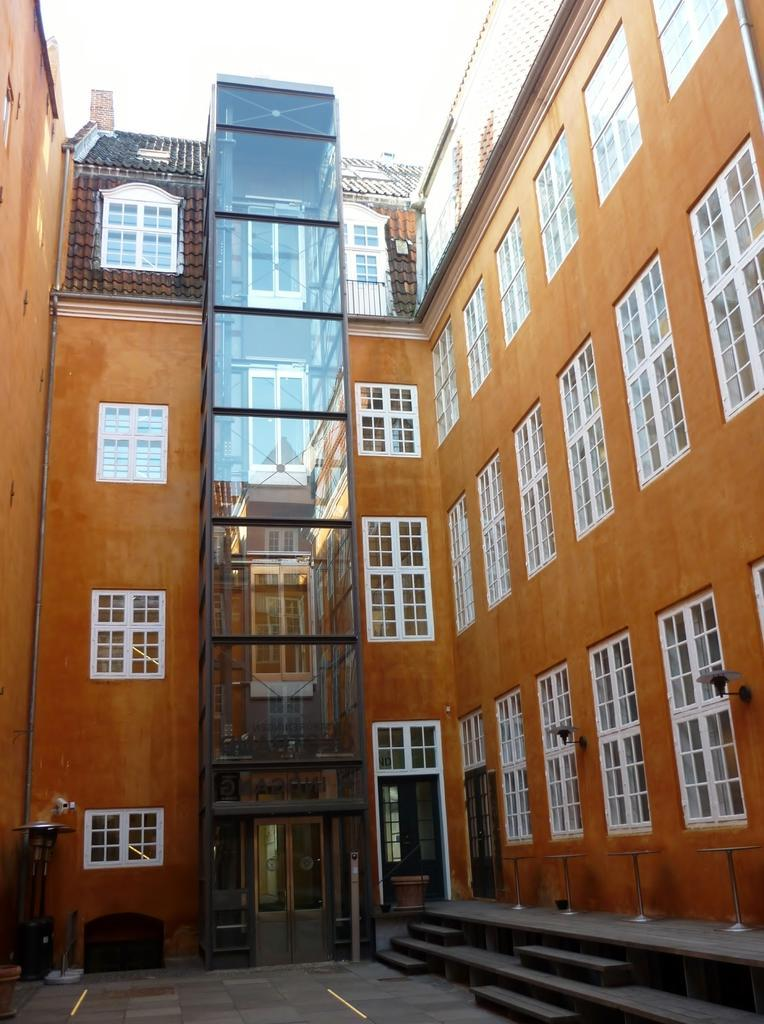door: (388, 779, 435, 896), (471, 776, 487, 894)
